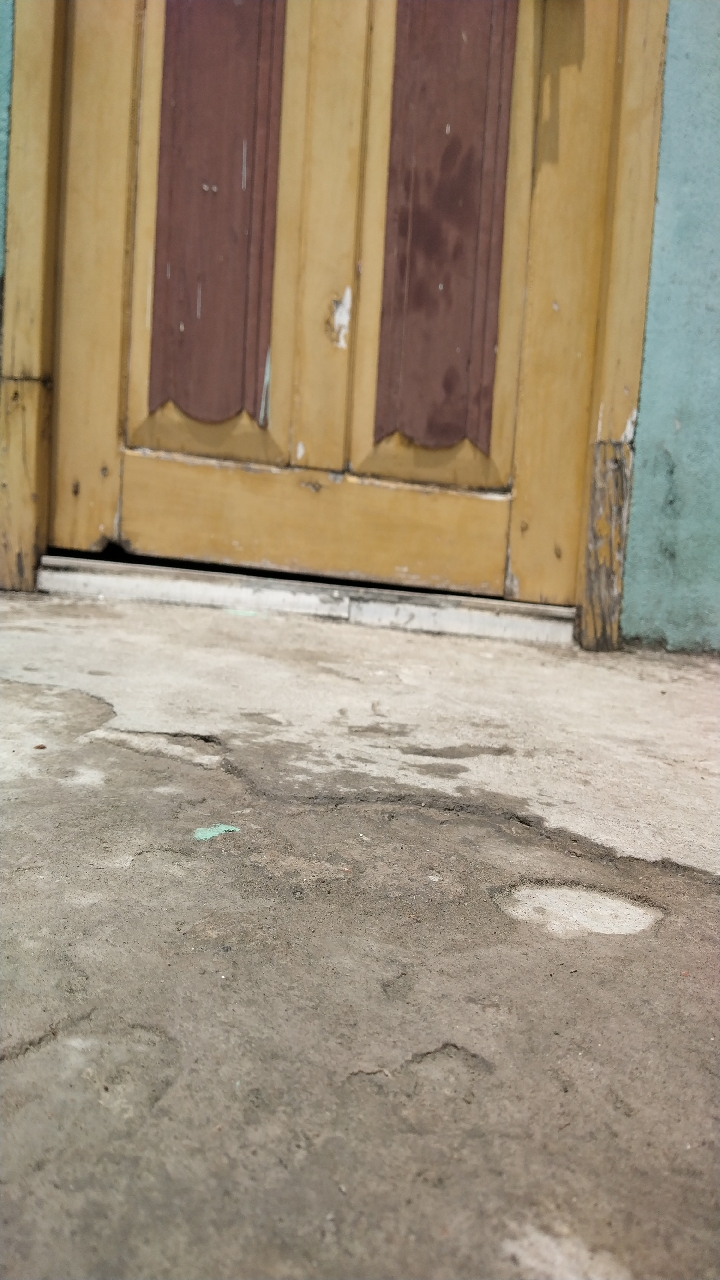Doors: (1, 92, 651, 667)
